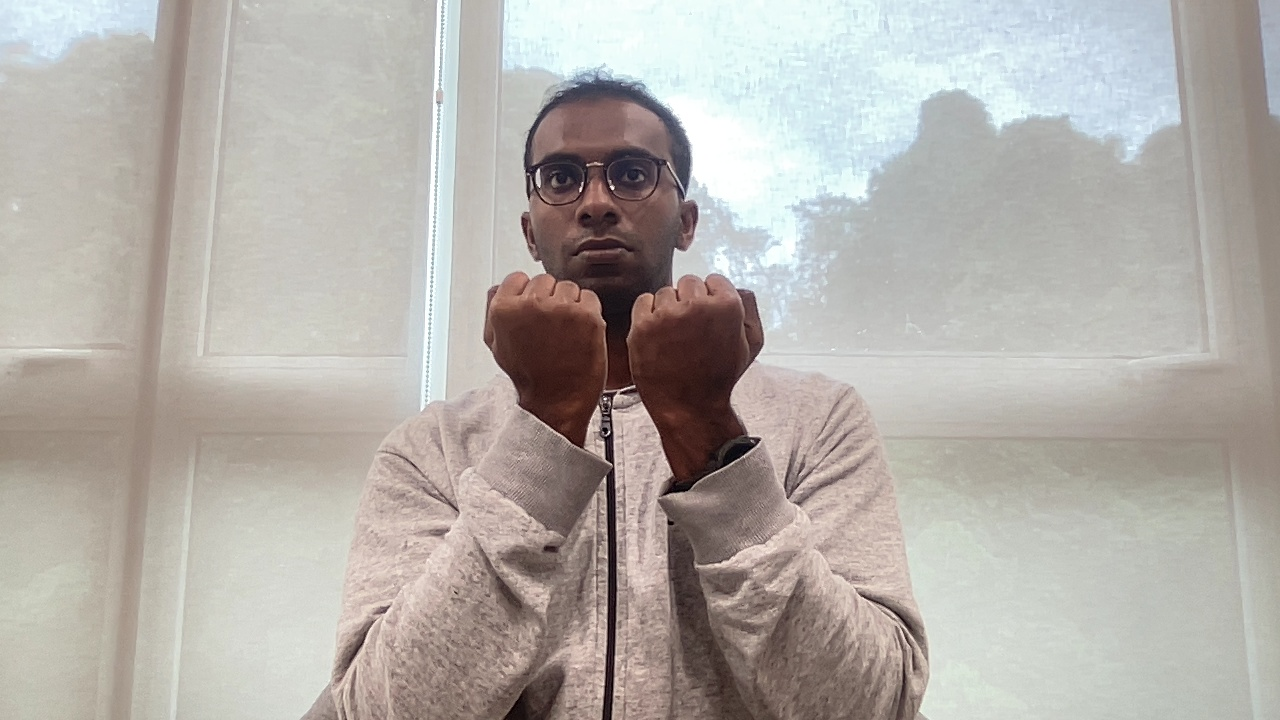finish: (472, 268, 776, 414)
